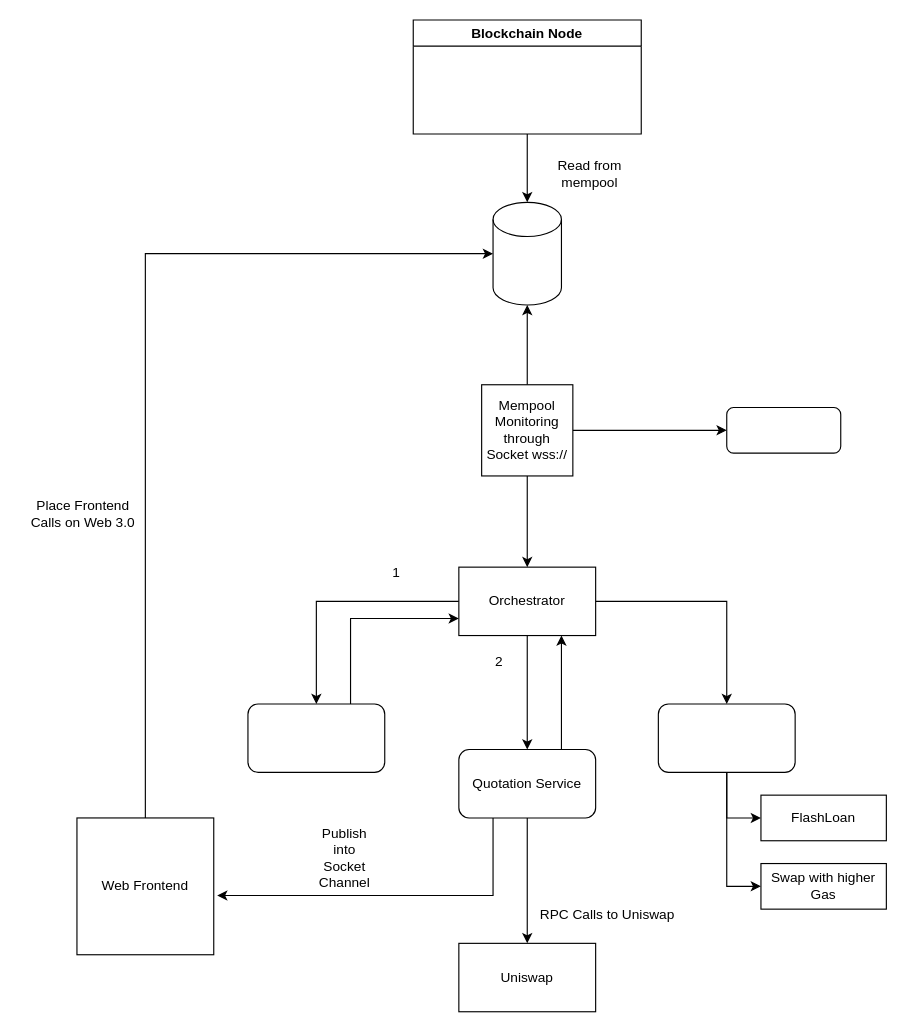
This 906x1032 diagram has some shape labels left out. Each missing label, with the box of its shape:
Decoder API Service HTTP GET endpoint: (247, 703, 385, 772)
Filter for Uniswap V3: (726, 406, 841, 453)
Mempool: (492, 201, 561, 305)
Smart Contract calls: (657, 703, 795, 772)
